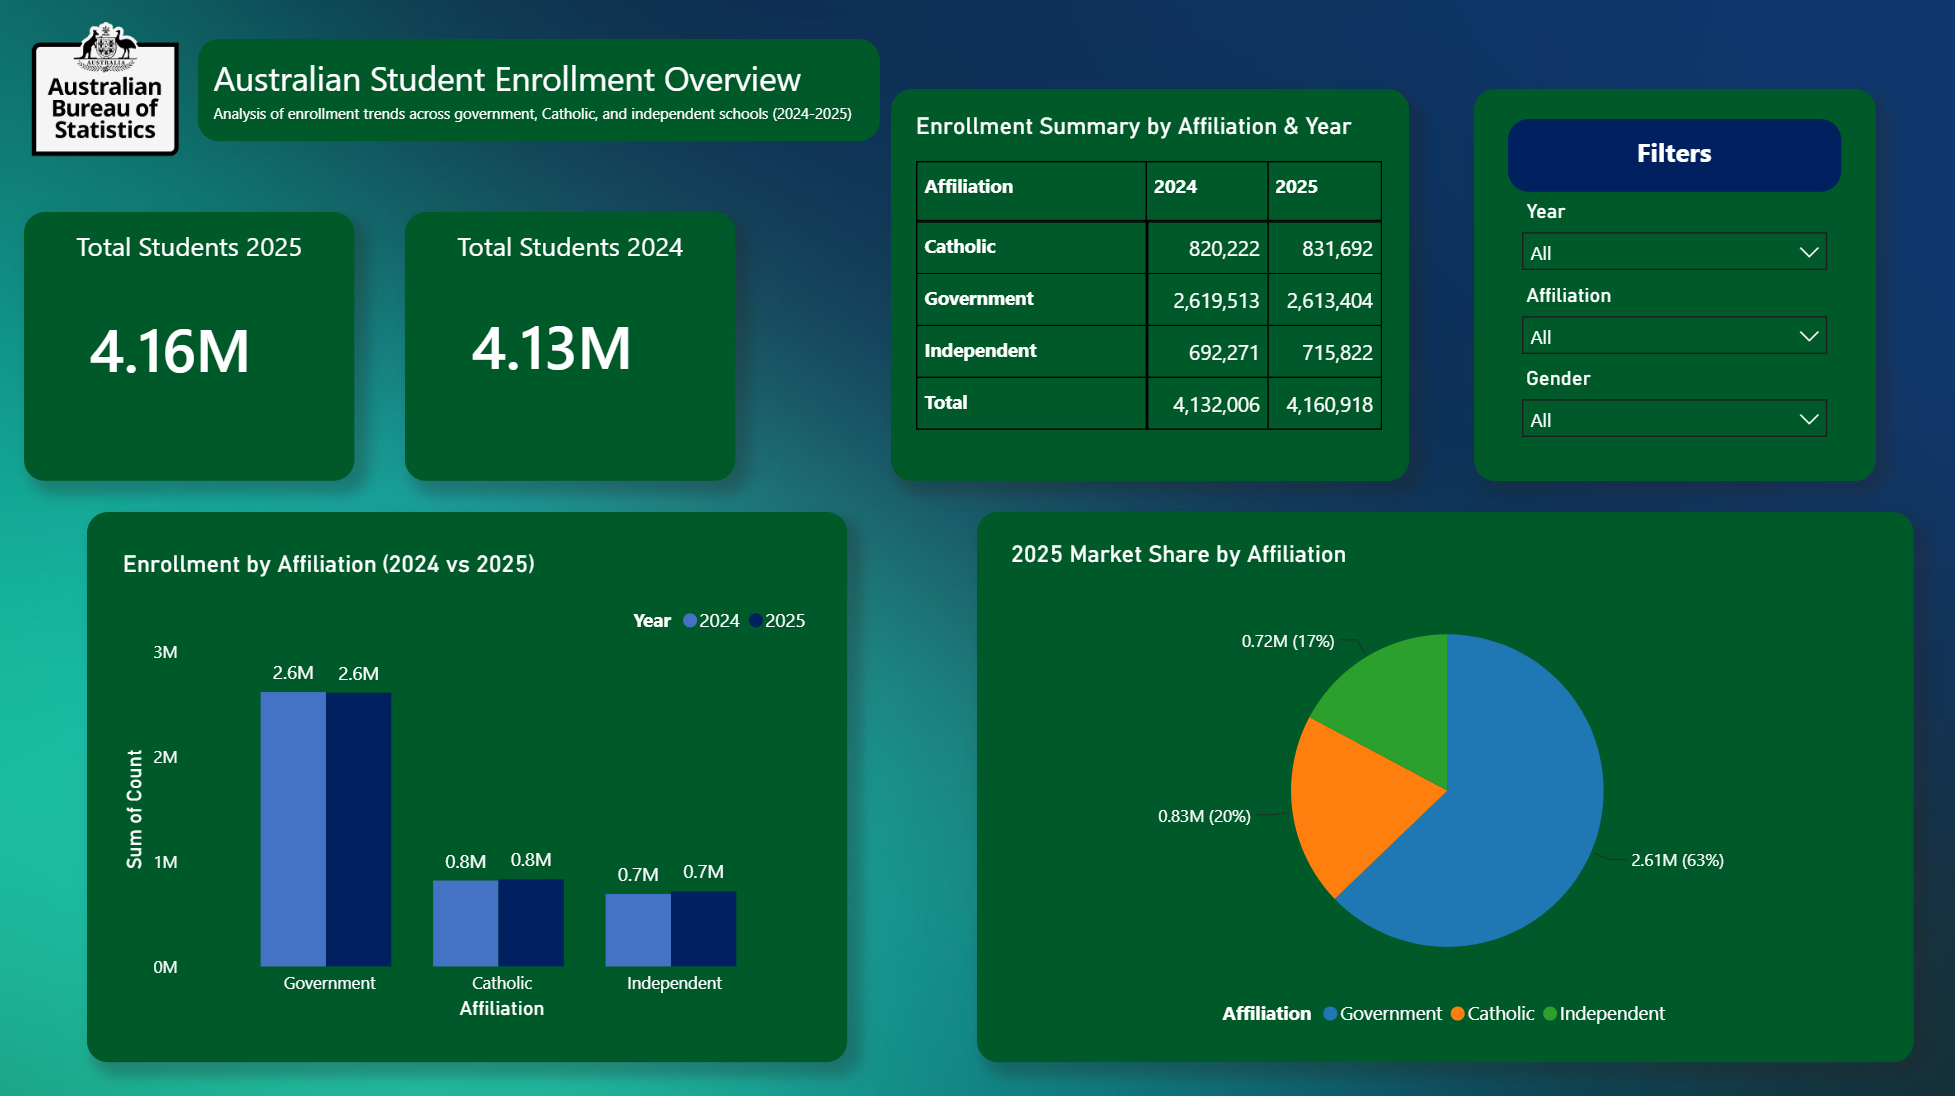

The dashboard page shown, as its layout file describes it:
{"tool":"powerbi","page":{"name":"Overview","canvas":[1400,800],"ordinal":0},"visuals":[{"type":"image","box":[0,0,1399.7,800],"z":0},{"type":"shape","box":[19.3,158.3,236.1,192.1],"z":1000},{"type":"cardVisual","title":"Total Students 2025","fields":{"Data":["Sum(enrollment_cleaned.Count)"]},"box":[37.2,178.3,200,150],"z":2000},{"type":"shape","box":[291.2,158.3,236.1,192.1],"z":3000},{"type":"cardVisual","title":"Total Students 2024","fields":{"Data":["Sum(enrollment_cleaned.Count)"]},"box":[309.8,180.4,199.5,148.1],"z":4000},{"type":"shape","box":[64,373.1,543.2,393.1],"z":5000},{"type":"clusteredColumnChart","title":"Enrollment by Affiliation (2024 vs 2025)","fields":{"Category":["enrollment_cleaned.Affiliation"],"Y":["Sum(enrollment_cleaned.Count)"],"Series":["enrollment_cleaned.Year"]},"box":[84.7,400,502.6,340.8],"z":6000},{"type":"shape","box":[700.2,373.1,668.5,393.1],"z":7000},{"type":"pieChart","title":"2025 Market Share by Affiliation","fields":{"Category":["enrollment_cleaned.Affiliation"],"Y":["Sum(enrollment_cleaned.Count)"]},"box":[719.4,393.1,633.4,357.3],"z":8000},{"type":"shape","box":[638.9,70.9,370.4,279.5],"z":9000},{"type":"pivotTable","title":"Enrollment Summary by Affiliation & Year","fields":{"Rows":["enrollment_cleaned.Affiliation"],"Columns":["enrollment_cleaned.Year"],"Values":["Sum(enrollment_cleaned.Count)"]},"box":[651.3,87.4,345.6,256.1],"z":10000},{"type":"shape","box":[1054.7,70.9,287.1,279.5],"z":11000},{"type":"slicer","fields":{"Values":["enrollment_cleaned.Year"]},"box":[1079.5,145.3,237.7,59.9],"z":12000},{"type":"slicer","fields":{"Values":["enrollment_cleaned.Affiliation"]},"box":[1079.5,205.2,237.7,59.3],"z":13000},{"type":"slicer","fields":{"Values":["enrollment_cleaned.Gender"]},"box":[1079.5,264.4,237.7,59.9],"z":14000},{"type":"textbox","box":[1079.5,92.3,237.5,51.6],"z":15000},{"type":"textbox","box":[143.9,35.1,486.7,73],"z":16000},{"type":"image","box":[17.9,22.7,119.1,95.7],"z":17000},{"type":"textbox","box":[41.3,165.2,192.1,45.4],"z":18000},{"type":"shape","box":[205.2,197.6,32.4,139.8],"z":19000},{"type":"shape","box":[30.3,194.1,32.4,139.8],"z":20000},{"type":"shape","box":[53,297.4,162.5,36.5],"z":21000},{"type":"shape","box":[303.6,165.2,32.4,172.1],"z":22000},{"type":"shape","box":[483.3,170.1,32.4,167.3],"z":23000},{"type":"shape","box":[326.3,297.4,167.3,39.9],"z":24000},{"type":"shape","box":[326.3,168,167.3,39.9],"z":25000},{"type":"textbox","box":[313.3,165.2,192.1,45.4],"z":26000}]}

Visuals, with their boxes in screenshot pixels (x1, y1, x2, y2), scaled from the page's 1400x800 canvas onto the 1955x1096 screenshot:
image: bbox=(0, 0, 1954, 1095)
shape: bbox=(27, 217, 357, 480)
"Total Students 2025" cardVisual: bbox=(52, 244, 331, 450)
shape: bbox=(407, 217, 736, 480)
"Total Students 2024" cardVisual: bbox=(433, 247, 711, 450)
shape: bbox=(89, 511, 848, 1050)
"Enrollment by Affiliation (2024 vs 2025)" clusteredColumnChart: bbox=(118, 548, 820, 1015)
shape: bbox=(978, 511, 1911, 1050)
"2025 Market Share by Affiliation" pieChart: bbox=(1005, 539, 1889, 1028)
shape: bbox=(892, 97, 1409, 480)
"Enrollment Summary by Affiliation & Year" pivotTable: bbox=(909, 120, 1392, 471)
shape: bbox=(1473, 97, 1874, 480)
slicer - enrollment_cleaned.Year: bbox=(1507, 199, 1839, 281)
slicer - enrollment_cleaned.Affiliation: bbox=(1507, 281, 1839, 362)
slicer - enrollment_cleaned.Gender: bbox=(1507, 362, 1839, 444)
textbox: bbox=(1507, 126, 1839, 197)
textbox: bbox=(201, 48, 881, 148)
image: bbox=(25, 31, 191, 162)
textbox: bbox=(58, 226, 326, 289)
shape: bbox=(287, 271, 332, 462)
shape: bbox=(42, 266, 88, 457)
shape: bbox=(74, 407, 301, 457)
shape: bbox=(424, 226, 469, 462)
shape: bbox=(675, 233, 720, 462)
shape: bbox=(456, 407, 689, 462)
shape: bbox=(456, 230, 689, 285)
textbox: bbox=(438, 226, 706, 289)
